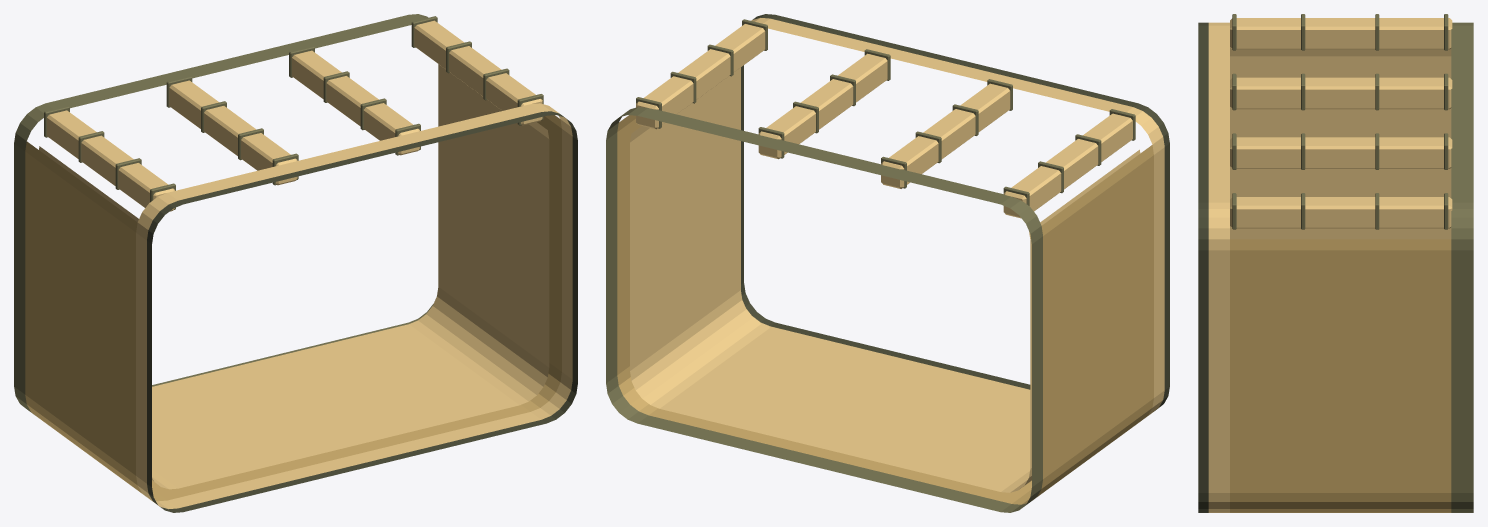
The model's file is HealingFacade.obj.
The picture shows the model from 3 angles, left to right: view 1: azimuth 30°, elevation 25°; view 2: azimuth 150°, elevation 25°; view 3: azimuth 270°, elevation 25°; orthographic projection.
Visible parts, largest first — view 1: HealingFacade; view 2: HealingFacade; view 3: HealingFacade.
Part boxes in pixels (<box>): HealingFacade: <box>14,14,577,512</box>; HealingFacade: <box>606,14,1169,512</box>; HealingFacade: <box>1198,14,1473,512</box>.
Bounding box in the file's own units: 570 × 400 × 320.
